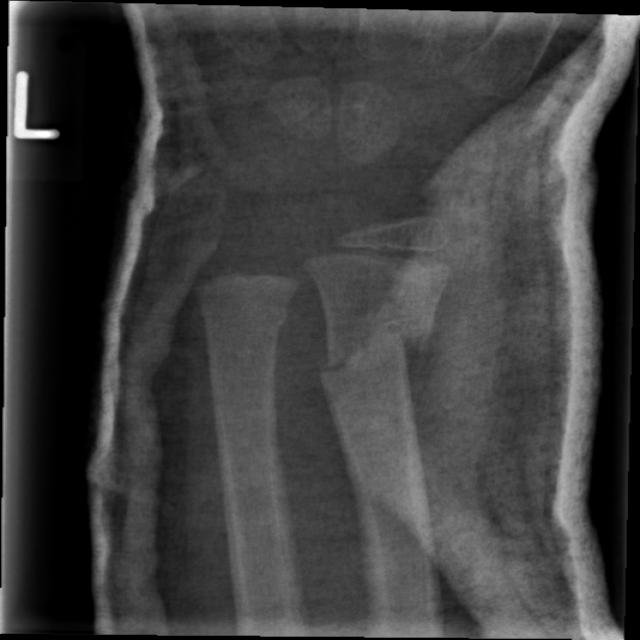radius fracture: (298, 306, 486, 422)
